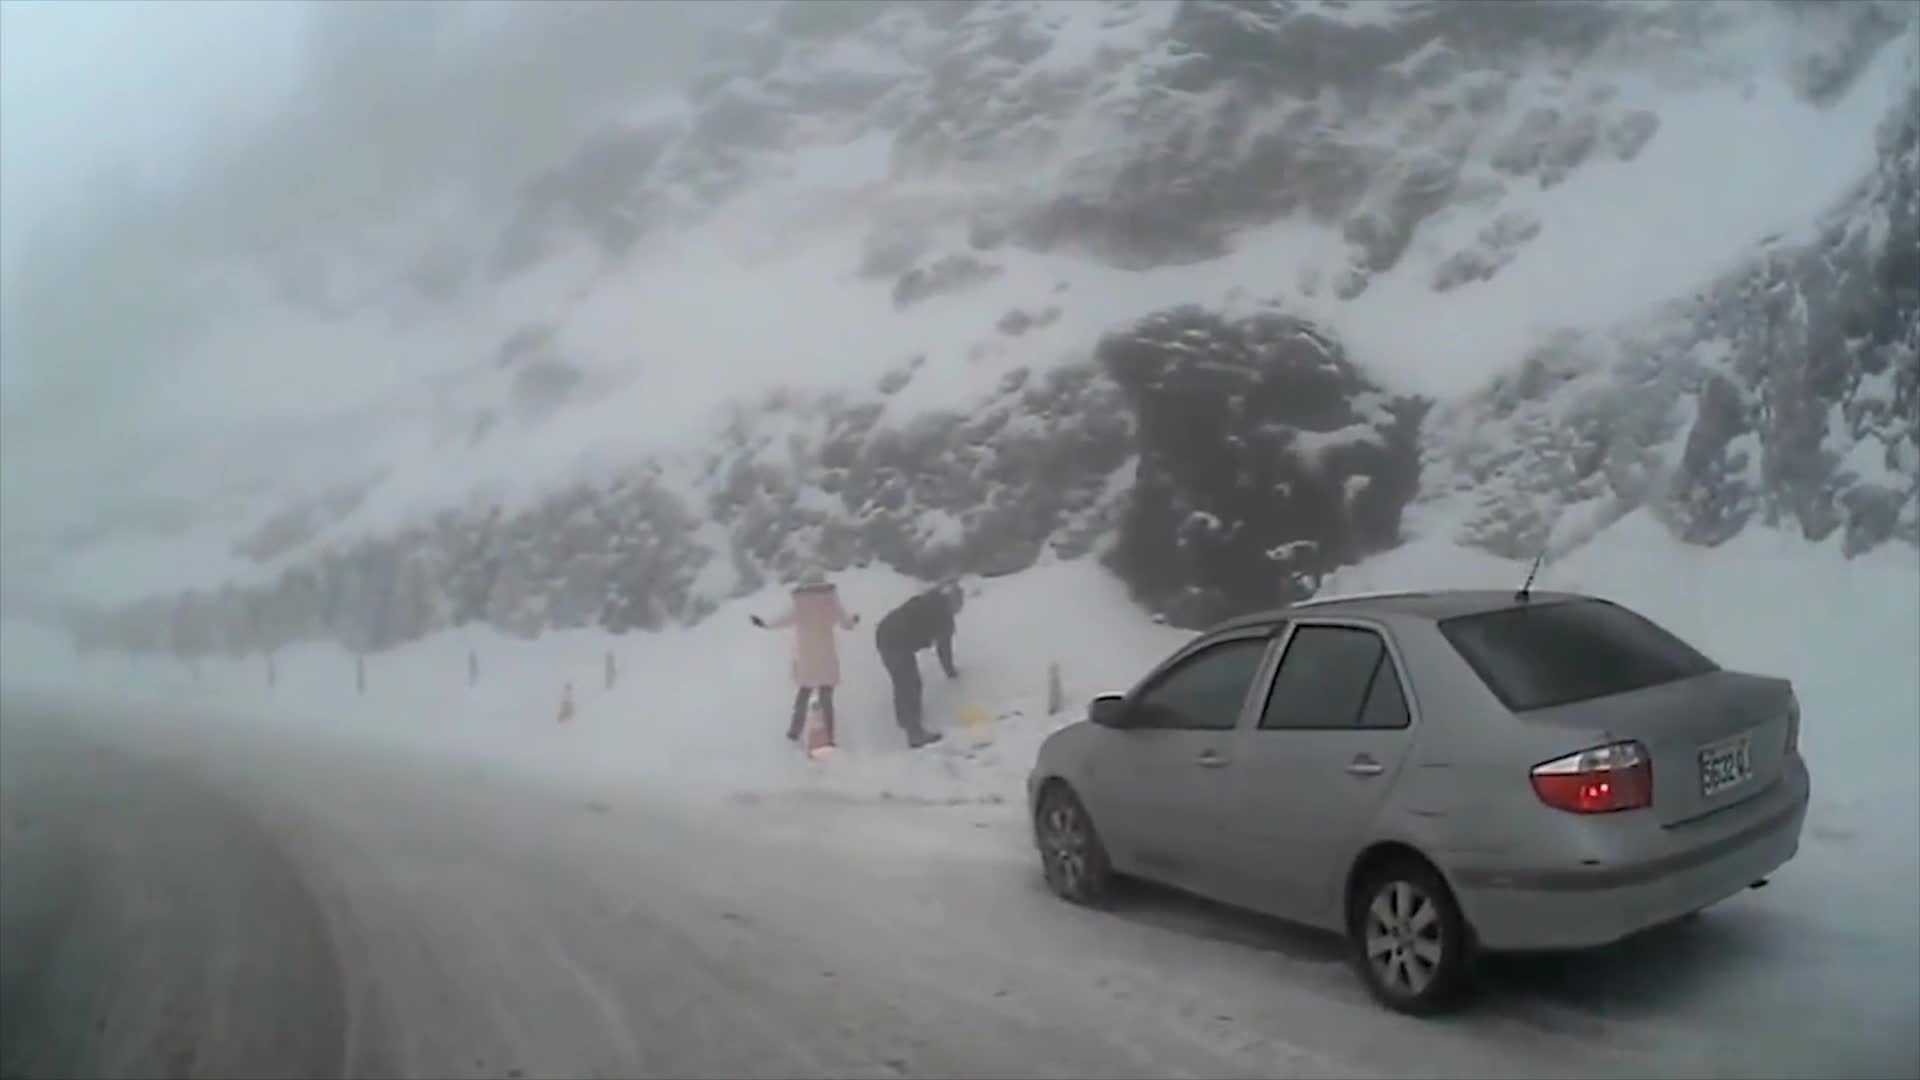pedestrian: (754, 568, 866, 752), (879, 585, 969, 748)
vehicle: (1027, 587, 1810, 1016)
